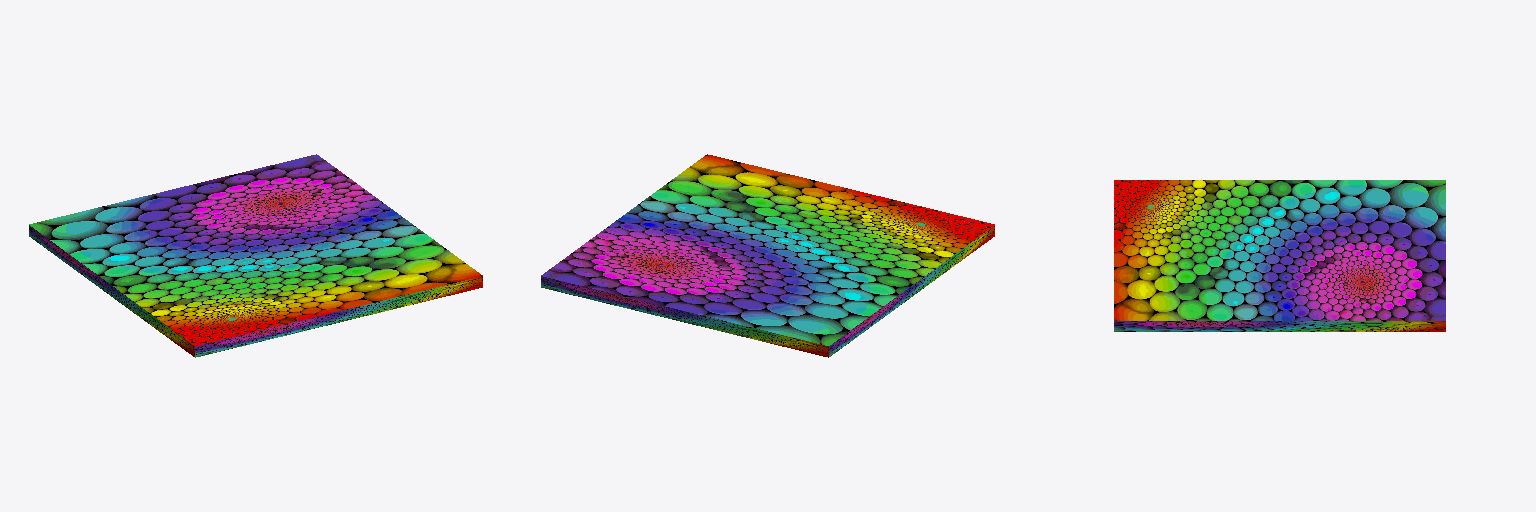
3 renders of one model, left to right at view 1: azimuth 30°, elevation 25°; view 2: azimuth 150°, elevation 25°; view 3: azimuth 270°, elevation 25°, orthographic.
Visible parts, largest first — view 1: Cube_Cube.001; view 2: Cube_Cube.001; view 3: Cube_Cube.001.
Boxes of the visible parts, <box> form: Cube_Cube.001: <box>29,154,482,357</box>; Cube_Cube.001: <box>541,154,994,357</box>; Cube_Cube.001: <box>1114,180,1445,331</box>.
Size of the model in its own units: 14.15 by 0.5372 by 14.15.
1 materials, 1 textured.